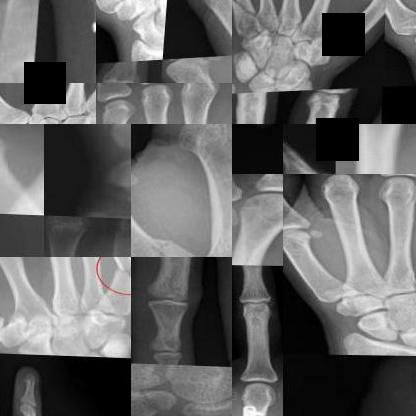fracture: (131, 384, 190, 415), (148, 222, 201, 256), (71, 0, 96, 62), (232, 0, 264, 31), (236, 399, 279, 415), (108, 257, 130, 286), (72, 98, 93, 121)
